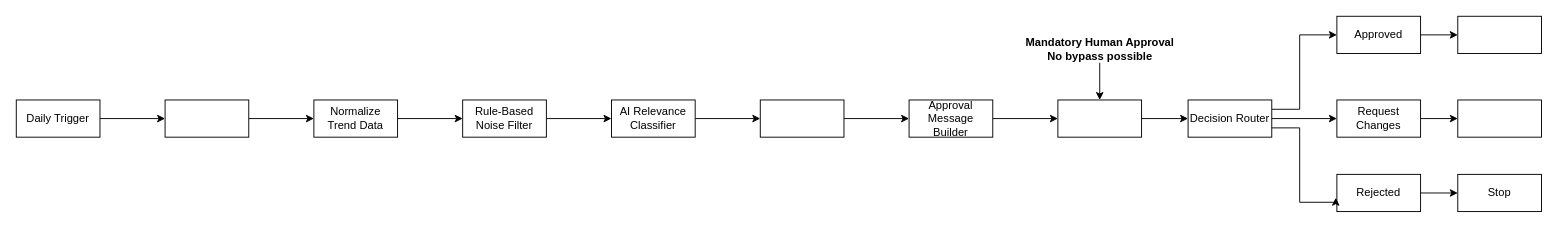
This 1558x228 diagram has some shape labels left out. Each missing label, with the box of its shape:
Draft Generator (LLM): (759, 99, 844, 137)
Google Trends API: (164, 99, 249, 137)
Log Ok: (1457, 15, 1541, 53)
Regenerate: (1457, 99, 1541, 137)
Telegram Approval Gate: (1057, 99, 1142, 137)
